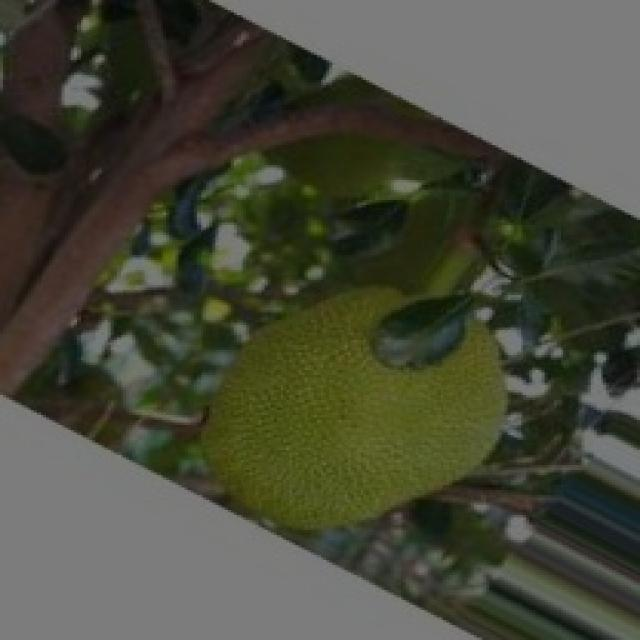Fruit: (160, 260, 542, 558)
